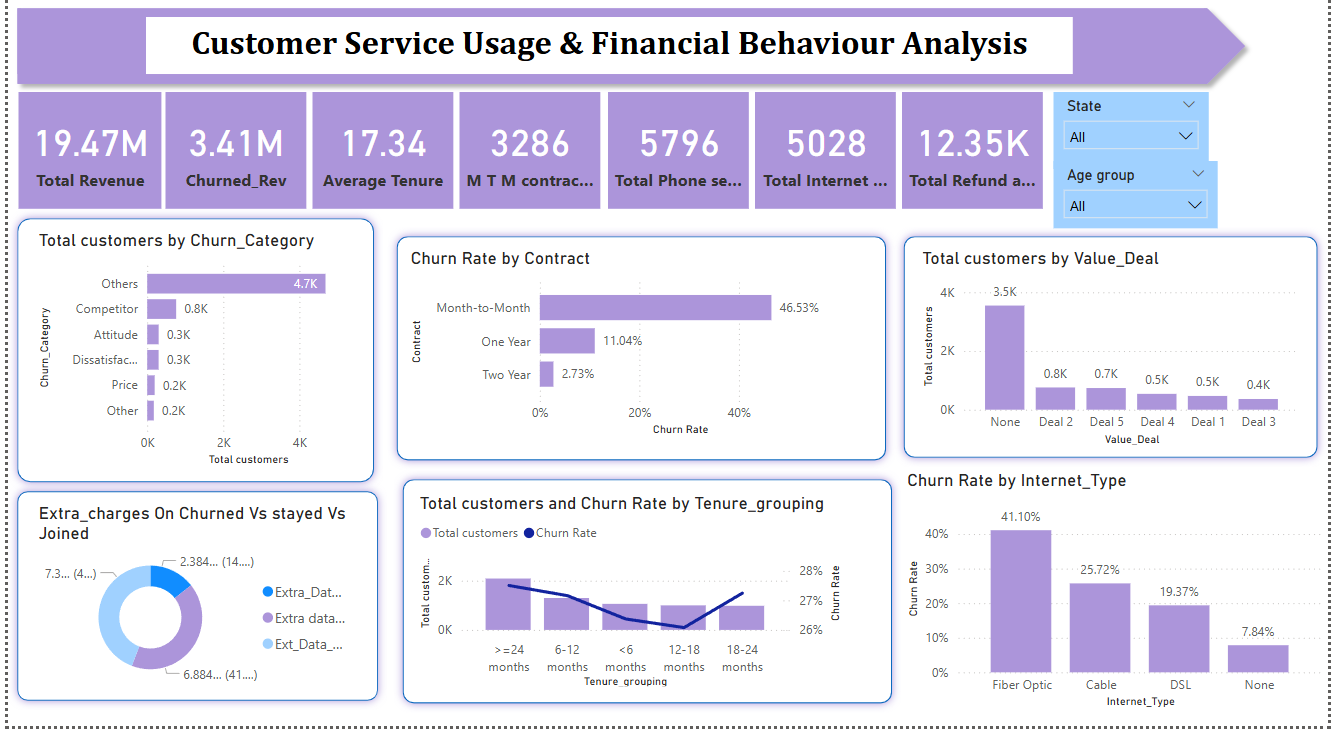

This screenshot's page, from the dashboard's own definition file:
{"tool":"powerbi","page":{"name":"Service usgae","canvas":[1280,720],"ordinal":2},"visuals":[{"type":"shape","box":[0,218.7,364.1,274.1],"z":0},{"type":"card","fields":{"Values":["Exp_Measures.Total Revenue"]},"box":[10.3,105.5,139,113.2],"z":1000},{"type":"shape","box":[0,14.2,1209.5,91.4],"z":2000},{"type":"textbox","box":[133.8,32.2,899.4,55.3],"z":3000},{"type":"shape","box":[368,235.5,492.8,235.5],"z":4000},{"type":"card","fields":{"Values":["Exp_Measures.Churned_Rev"]},"box":[153.1,105.5,136.4,113.2],"z":5000},{"type":"card","fields":{"Values":["Exp_Measures.Average Tenure"]},"box":[295.9,105.5,136.4,113.2],"z":6000},{"type":"card","fields":{"Values":["Exp_Measures.M T M contract customers"]},"box":[438.8,105.5,136.4,113.2],"z":7000},{"type":"card","fields":{"Values":["Exp_Measures.Total Phone serv users"]},"box":[582.9,105.5,136.4,113.2],"z":8000},{"type":"card","fields":{"Values":["Exp_Measures.Total Internet serv users"]},"box":[724.4,105.5,136.4,113.2],"z":9000},{"type":"card","fields":{"Values":["Exp_Measures.Total Refund amount"]},"box":[867.2,105.5,136.4,113.2],"z":10000},{"type":"barChart","fields":{"Category":["prod_customer_churn.Contract"],"Y":["Exp_Measures.Churn Rate"]},"box":[386,256.1,420.7,186.6],"z":12000},{"type":"shape","box":[374.4,470.9,492.8,235.5],"z":13000},{"type":"lineStackedColumnComboChart","fields":{"Category":["Tenure group_table.Tenure_grouping"],"Y":["Exp_Measures.Total customers"],"Y2":["Exp_Measures.Churn Rate"]},"box":[395,492.8,418.2,193],"z":14000},{"type":"barChart","fields":{"Category":["prod_customer_churn.Churn_Category"],"Y":["Exp_Measures.Total customers"]},"box":[24.4,238,319.1,232.9],"z":15000},{"type":"shape","box":[860.8,235.5,419.5,232.9],"z":16000},{"type":"columnChart","fields":{"Category":["prod_customer_churn.Internet_Type"],"Y":["Exp_Measures.Churn Rate"]},"box":[867,471,413,235],"z":17000},{"type":"clusteredColumnChart","fields":{"Y":["Exp_Measures.Total customers"],"Category":["prod_customer_churn.Value_Deal"]},"box":[882.7,256.1,375.7,195.6],"z":17001},{"type":"shape","box":[0,483.8,368,221.3],"z":17002},{"type":"donutChart","title":"Extra_charges  On Churned Vs stayed Vs Joined","fields":{"Y":["Exp_Measures.Extra_Data_Charge_Joined","Exp_Measures.Extra data charge per stayed","Exp_Measures.Ext_Data_Char_churn"]},"box":[24.4,503.1,319.1,182.7],"z":17003},{"type":"slicer","fields":{"Values":["Pivoting table.State"]},"box":[1013.9,105.5,150.5,74.6],"z":17004},{"type":"slicer","fields":{"Values":["Age group_table.Age group"]},"box":[1013.9,172.4,159.6,65.6],"z":17005}]}

Visuals, with their boxes in screenshot pixels (x1, y1, x2, y2), scaled from the page's 1280x720 canvas onto the 1332x735 screenshot:
shape: [left=0, top=223, right=379, bottom=503]
card - Exp_Measures.Total Revenue: [left=11, top=108, right=155, bottom=223]
shape: [left=0, top=14, right=1259, bottom=108]
textbox: [left=139, top=33, right=1075, bottom=89]
shape: [left=383, top=240, right=896, bottom=481]
card - Exp_Measures.Churned_Rev: [left=159, top=108, right=301, bottom=223]
card - Exp_Measures.Average Tenure: [left=308, top=108, right=450, bottom=223]
card - Exp_Measures.M T M contract customers: [left=457, top=108, right=599, bottom=223]
card - Exp_Measures.Total Phone serv users: [left=607, top=108, right=749, bottom=223]
card - Exp_Measures.Total Internet serv users: [left=754, top=108, right=896, bottom=223]
card - Exp_Measures.Total Refund amount: [left=902, top=108, right=1044, bottom=223]
barChart - prod_customer_churn.Contract x Exp_Measures.Churn Rate: [left=402, top=261, right=839, bottom=452]
shape: [left=390, top=481, right=902, bottom=721]
lineStackedColumnComboChart - Tenure group_table.Tenure_grouping x Exp_Measures.Total customers: [left=411, top=503, right=846, bottom=700]
barChart - prod_customer_churn.Churn_Category x Exp_Measures.Total customers: [left=25, top=243, right=357, bottom=481]
shape: [left=896, top=240, right=1331, bottom=478]
columnChart - prod_customer_churn.Internet_Type x Exp_Measures.Churn Rate: [left=902, top=481, right=1331, bottom=721]
clusteredColumnChart - Exp_Measures.Total customers x prod_customer_churn.Value_Deal: [left=919, top=261, right=1310, bottom=461]
shape: [left=0, top=494, right=383, bottom=720]
"Extra_charges  On Churned Vs stayed Vs Joined" donutChart: [left=25, top=514, right=357, bottom=700]
slicer - Pivoting table.State: [left=1055, top=108, right=1212, bottom=184]
slicer - Age group_table.Age group: [left=1055, top=176, right=1221, bottom=243]
